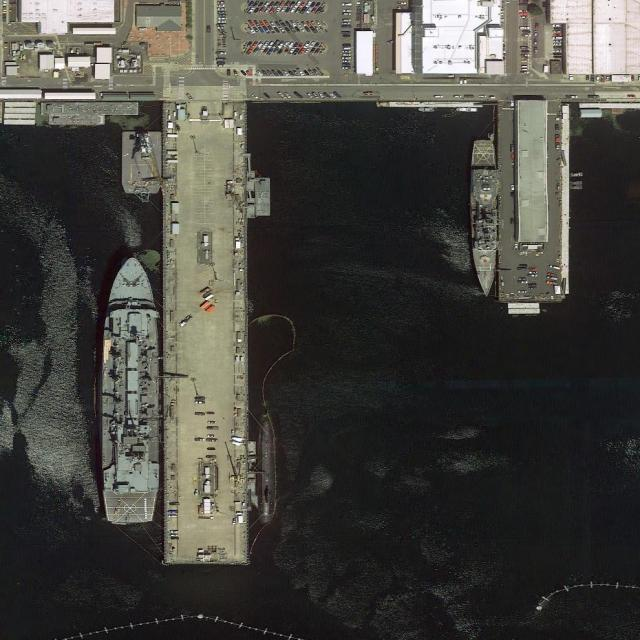Dock: (160, 100, 249, 565), (493, 103, 570, 314)
Frigate: (473, 140, 495, 297)
Other Warship: (101, 258, 158, 523)
Submarine: (261, 420, 273, 519)
